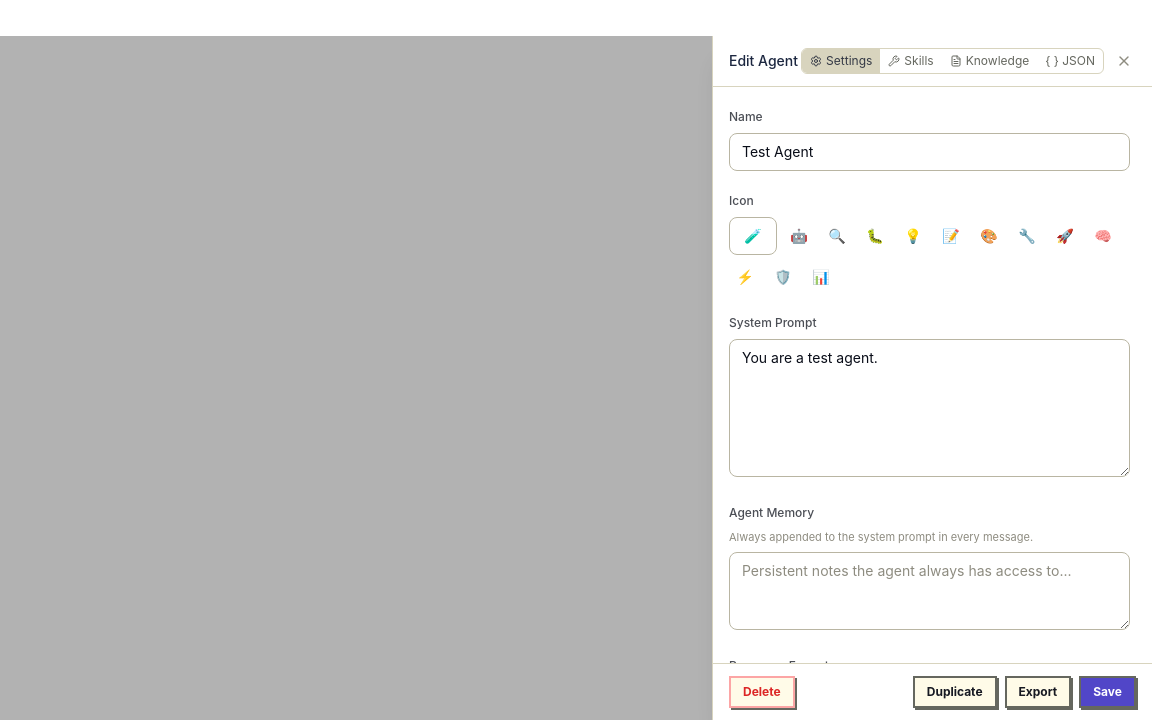
Scenario: Knowledge File Editor › kf-r-2: editor textarea is pre-populated with file content
What coordinates should you click on to do the following:
click the button "Knowledge"
I would click on:
 (990, 61)
Its box is [942,49,1037,73].
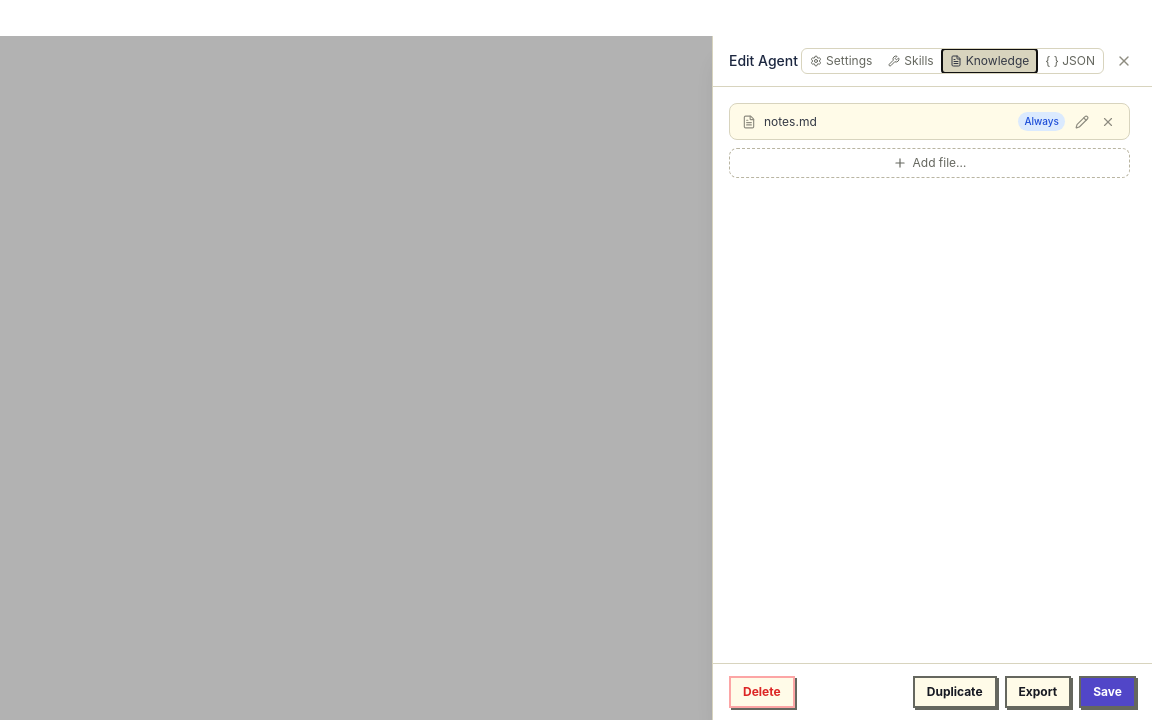
Result: the text "notes.md" is shown at [764,114,817,128]
What coordinates should you click on to do the following:
click the button named "Edit /docs/notes.md"
I would click on:
 (1082, 122)
Its box is [1073,112,1091,130].
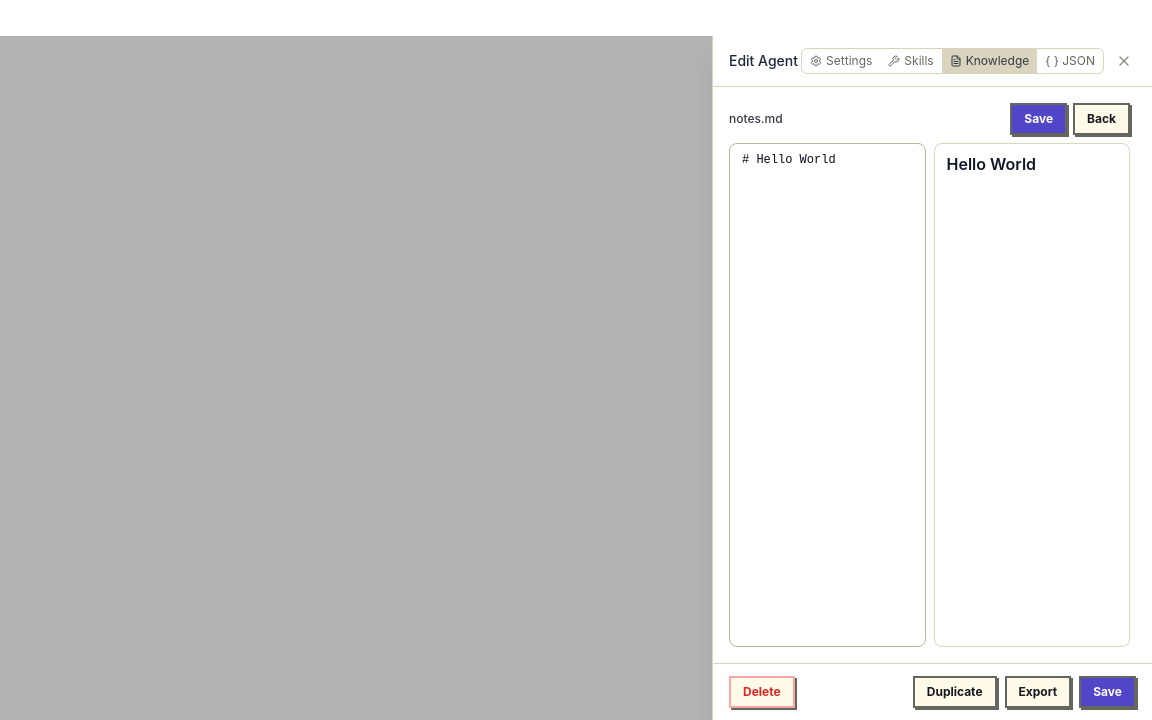
Result: the text "notes.md" is shown at [729,111,783,127]
Result: the text box holds "# Hello World" at [729,143,926,647]
